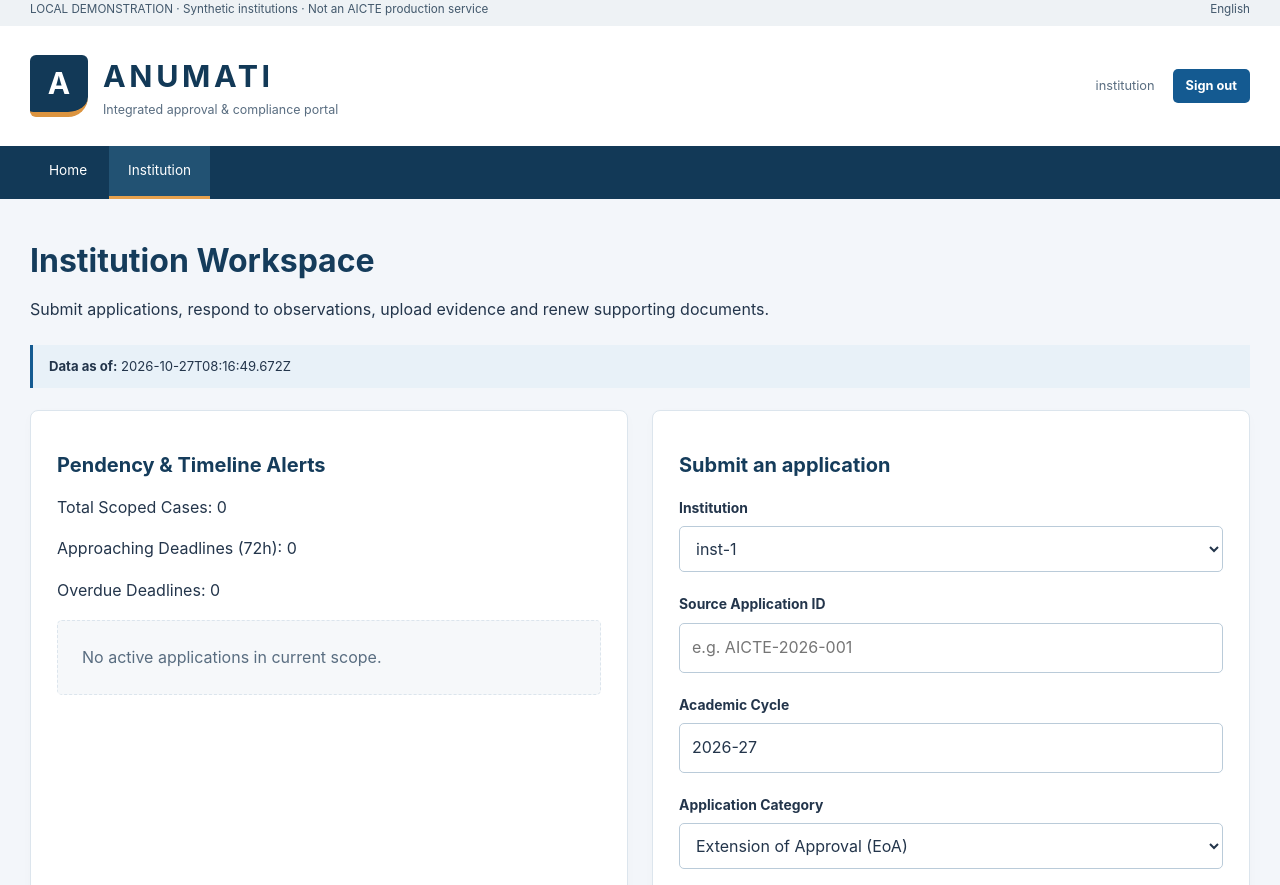
it: persists institution intake instead of displaying a simulated success
This screenshot has width=1280, height=885.
Type "SRC-001" into the field labelled "Source Application ID". click: (951,648)
box: [679,623,1223,673]
(page scrolled)
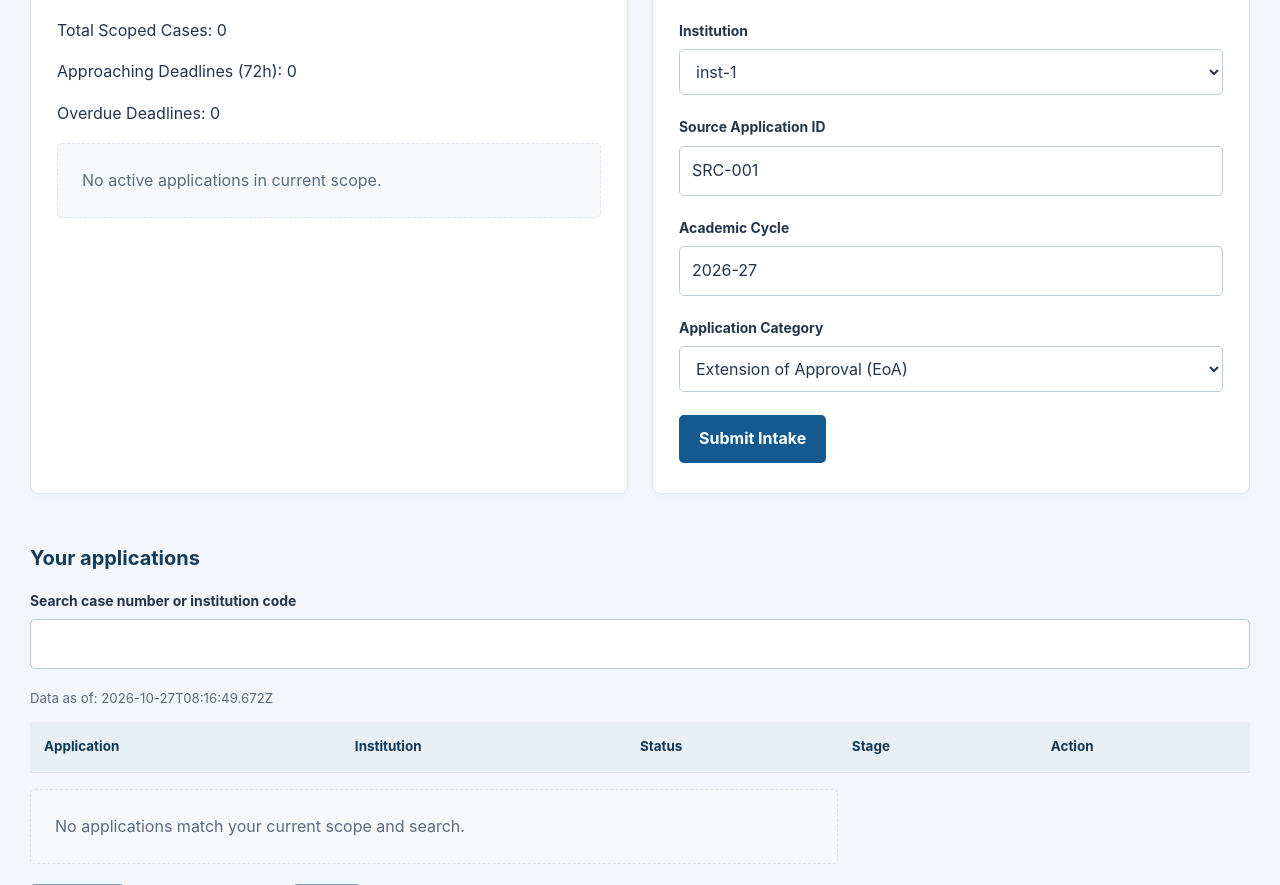
Click the button "Submit Intake". click: (753,439)
box: [679,415,826,463]
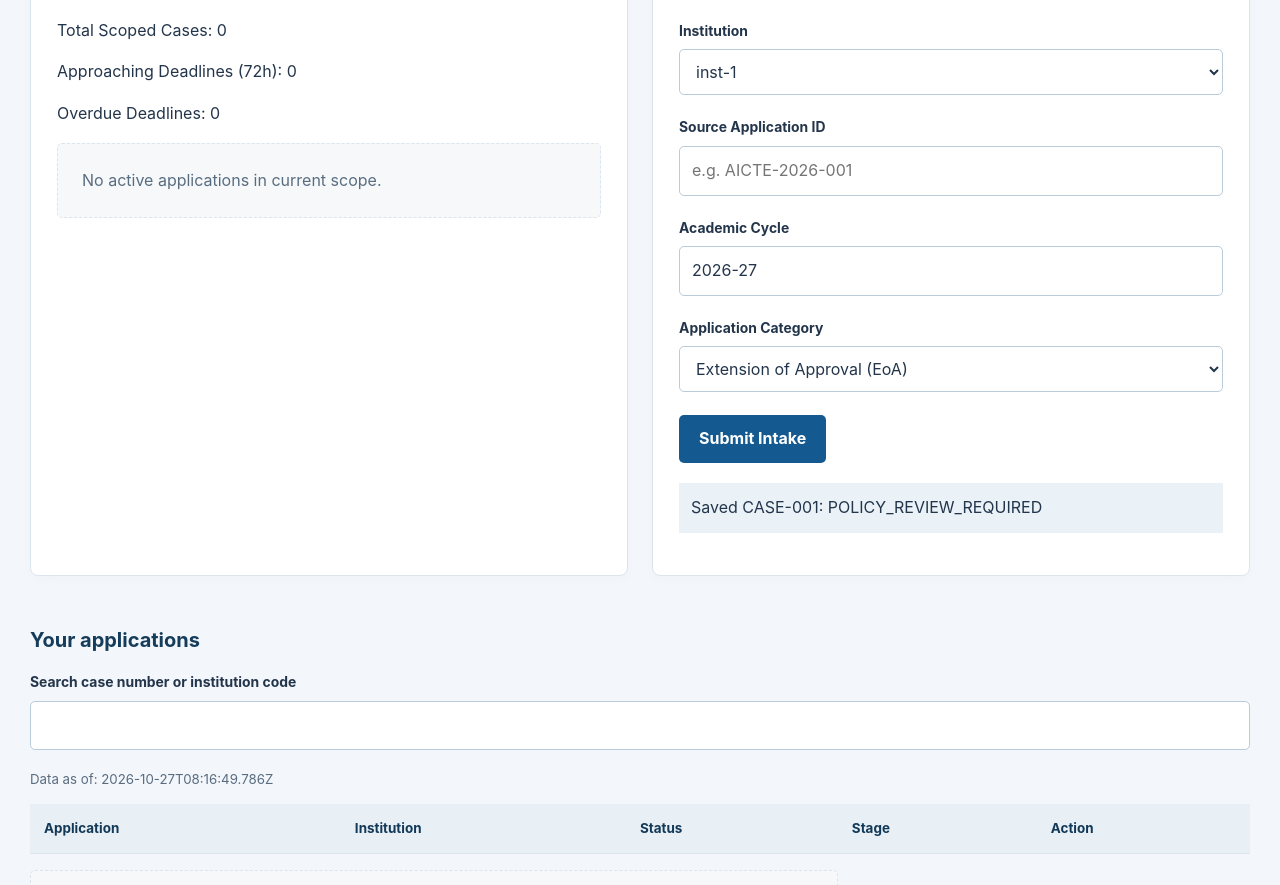
Now the text "Saved CASE-001: POLICY_REVIEW_REQUIRED" is shown, box [679,483,1223,533]
